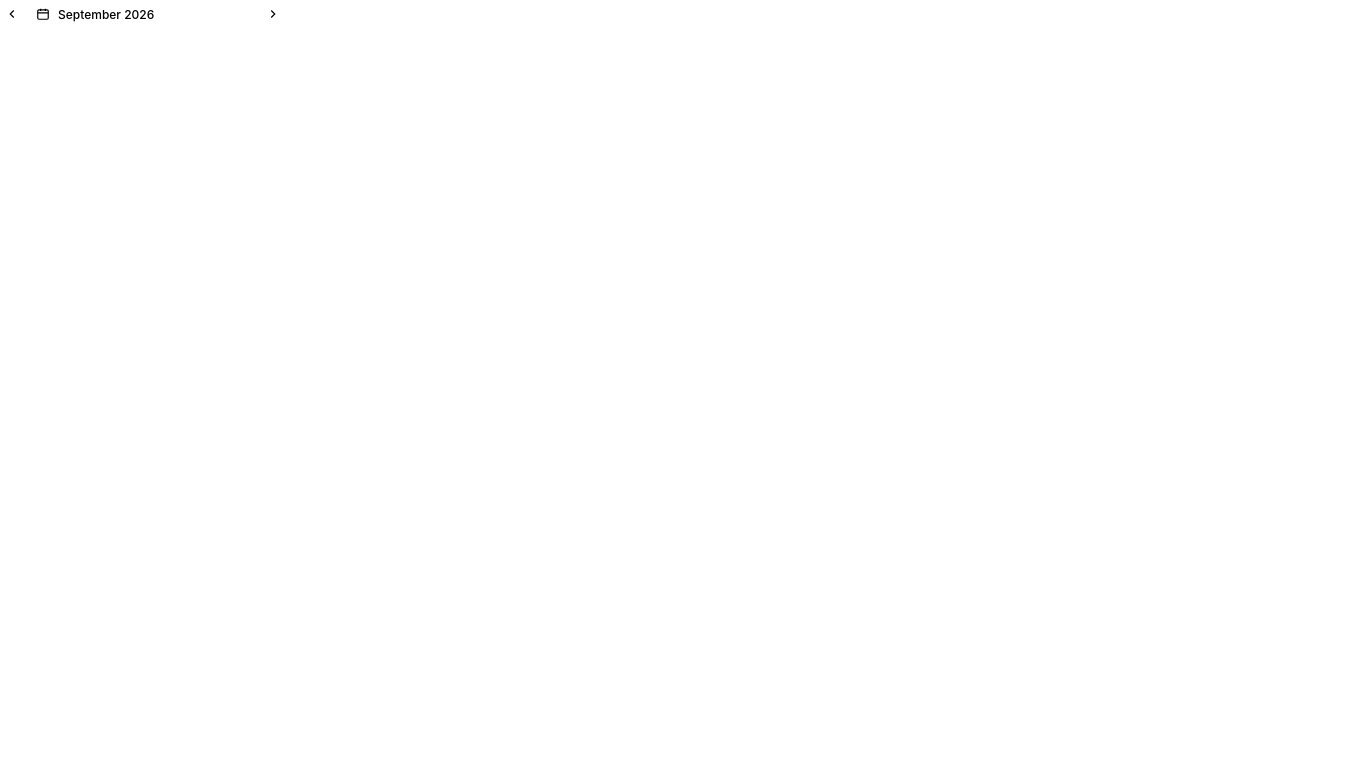
Test: PeriodPicker: Enter підтверджує — blur і назва › споживач `value ?? попереднє` (DocumentPage, діалоги): Enter → blur і назва
Click the field named "⟦documents.period⟧".
click(154, 14)  # box [57,0,251,28]
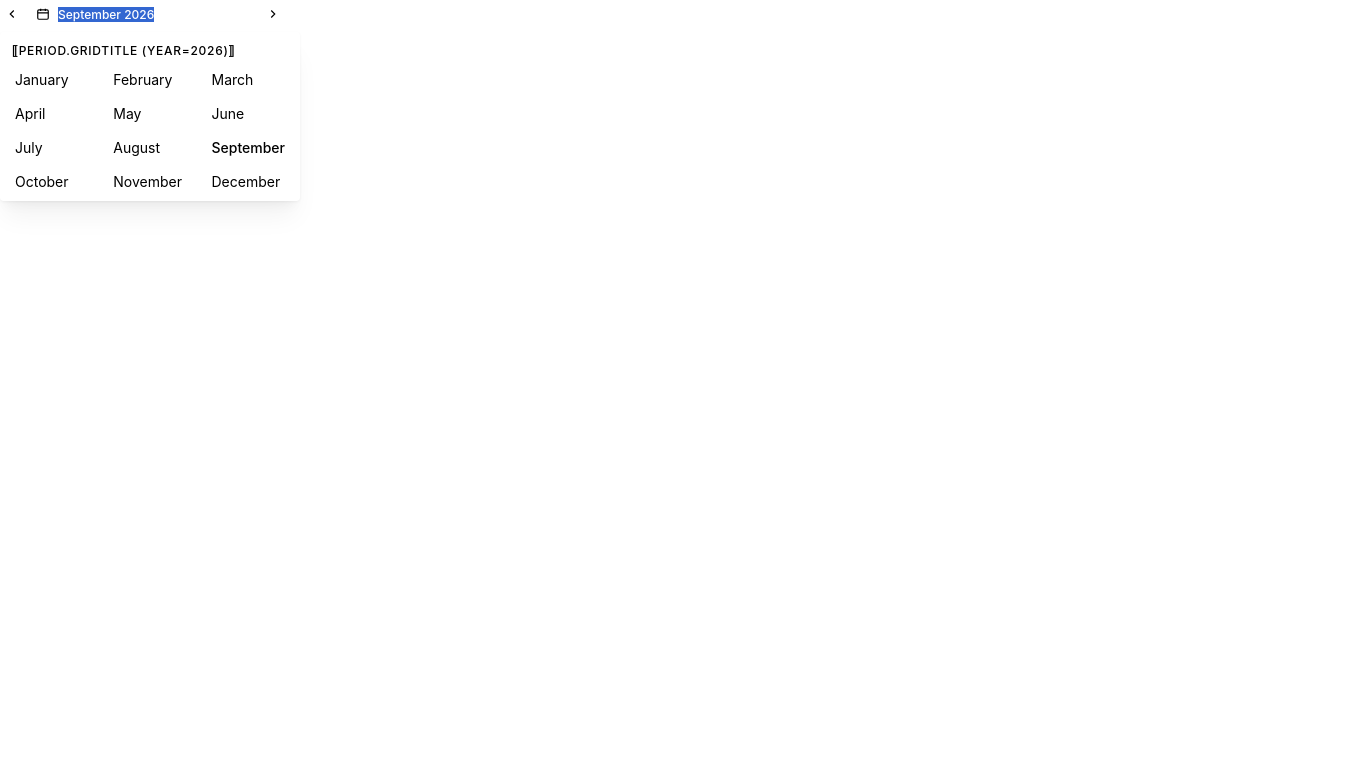
Type keys "202508{Enter}"
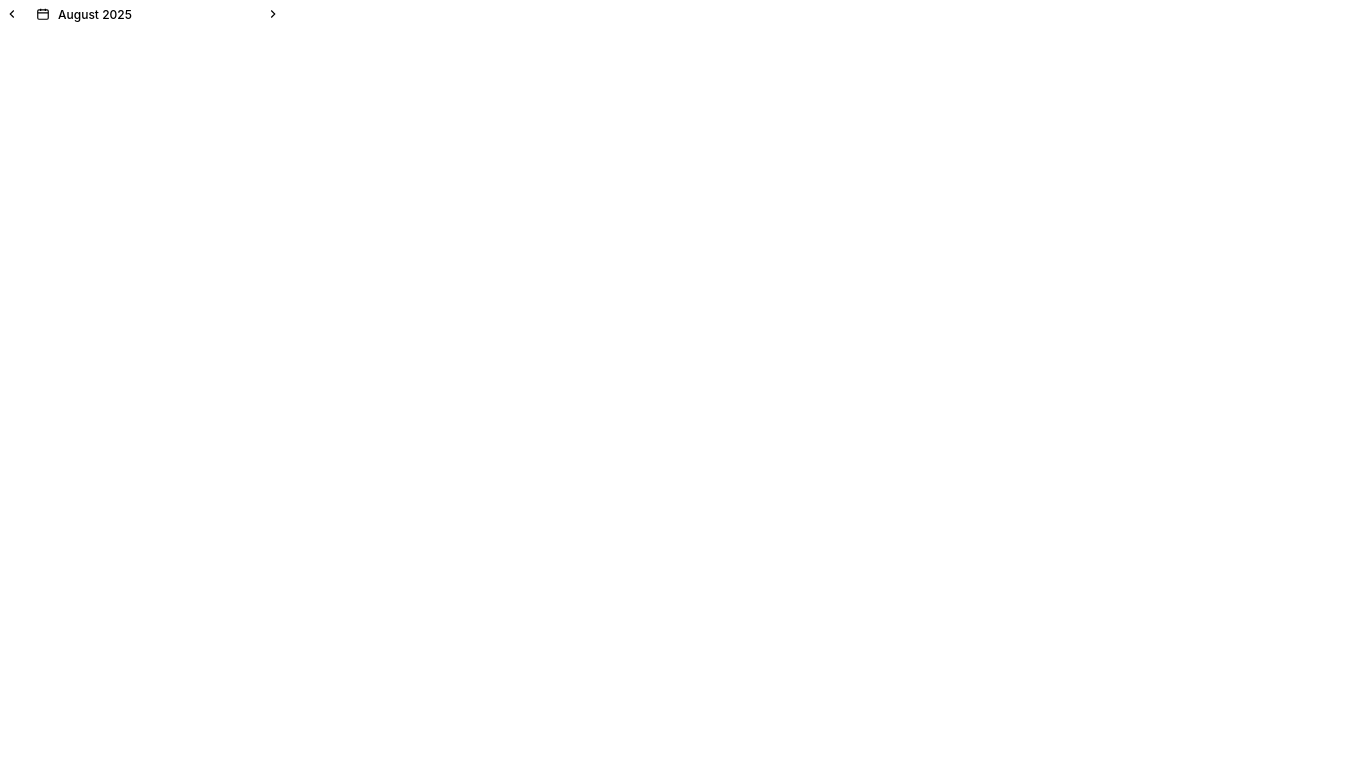
Check: the field named "⟦documents.period⟧" holds "August 2025", box [57,0,251,28]
